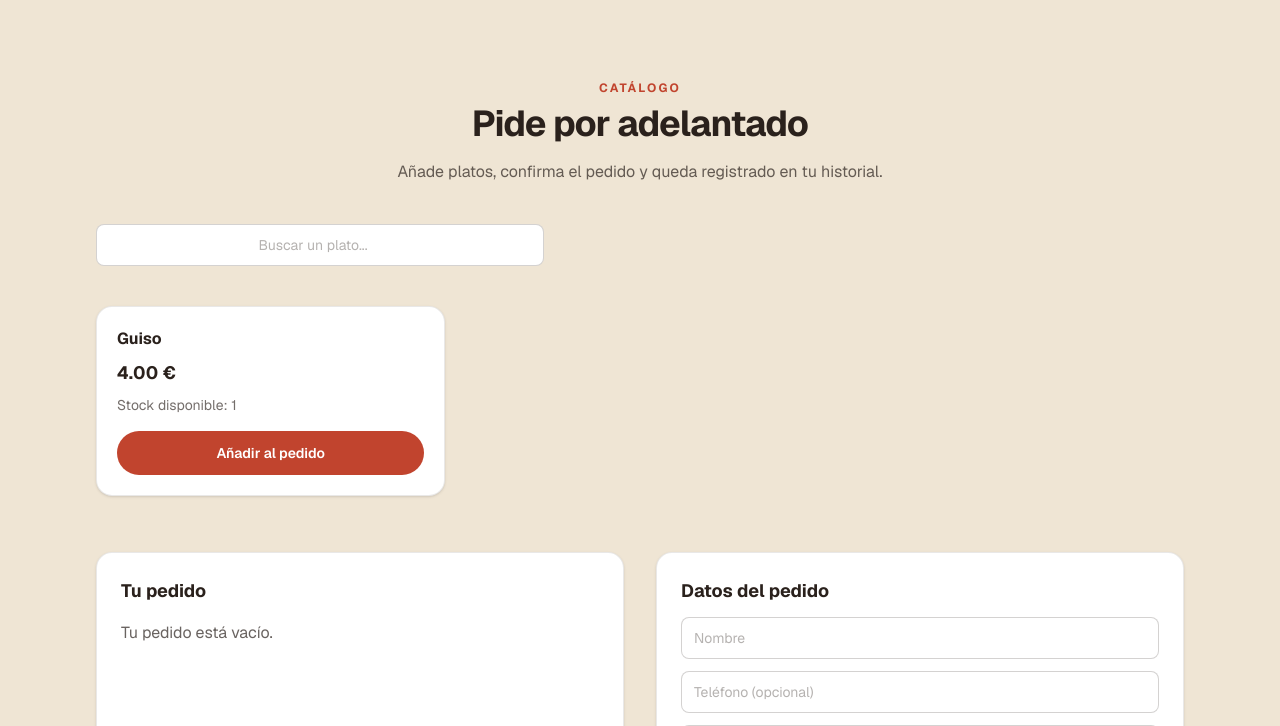
Test: PedidoSection › no deja añadir más unidades que el stock
The width and height of the screenshot is (1280, 726).
Expected: the heading "Guiso" is shown, [117,328,162,349]
Click the button "Añadir al pedido" at x=271, y=453, box [117,431,424,475]
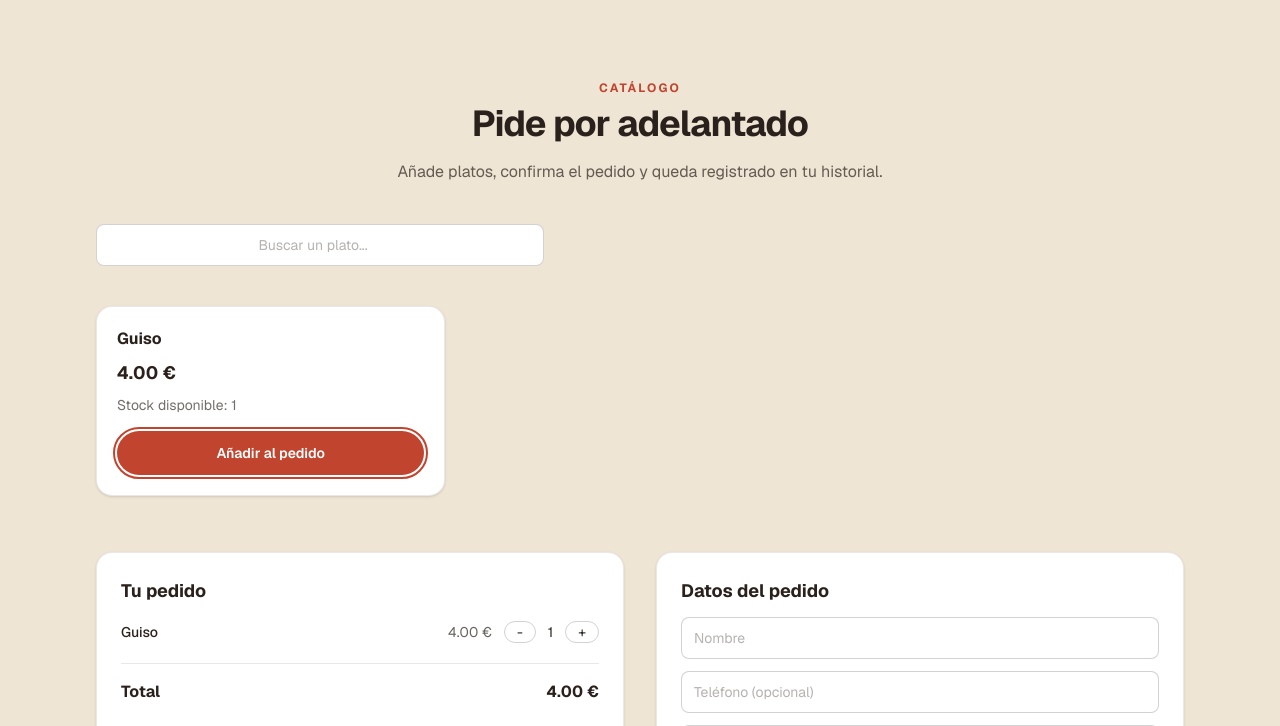
Click the button "Añadir al pedido" at x=271, y=453, box [117,431,424,475]
(page scrolled)
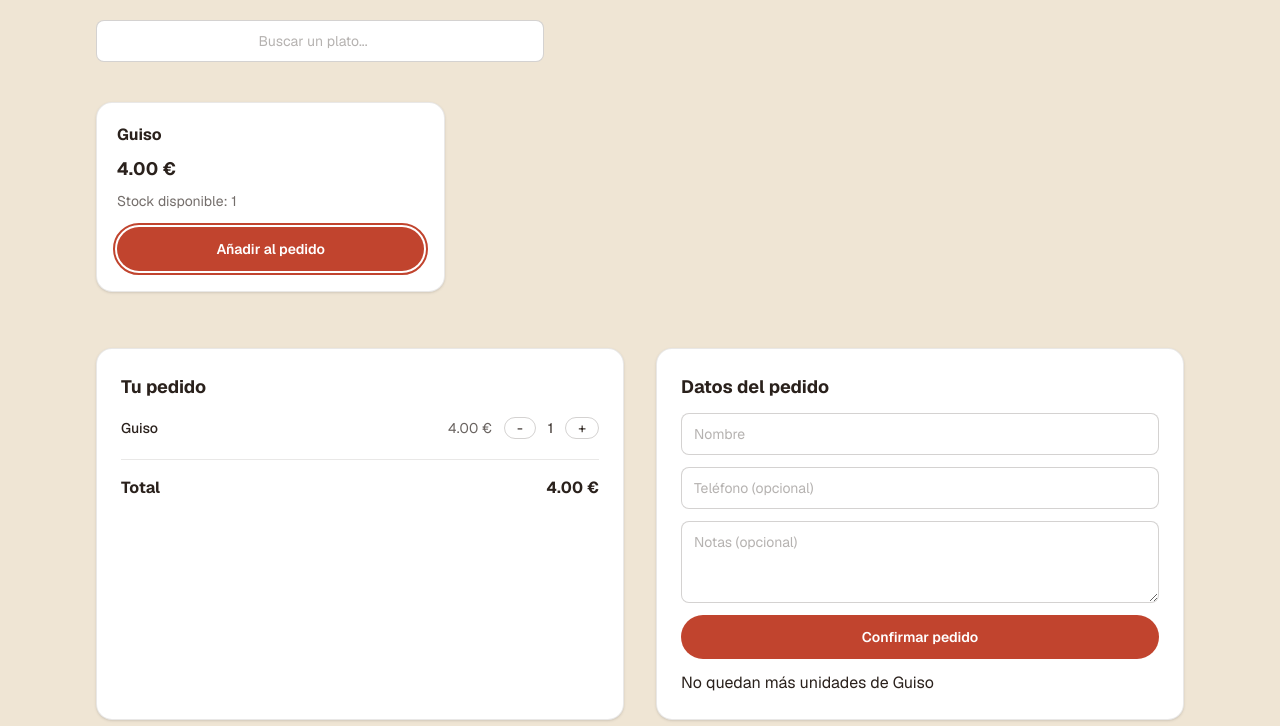
Now the message reads "No quedan más unidades de Guiso", box [681,672,934,693]
